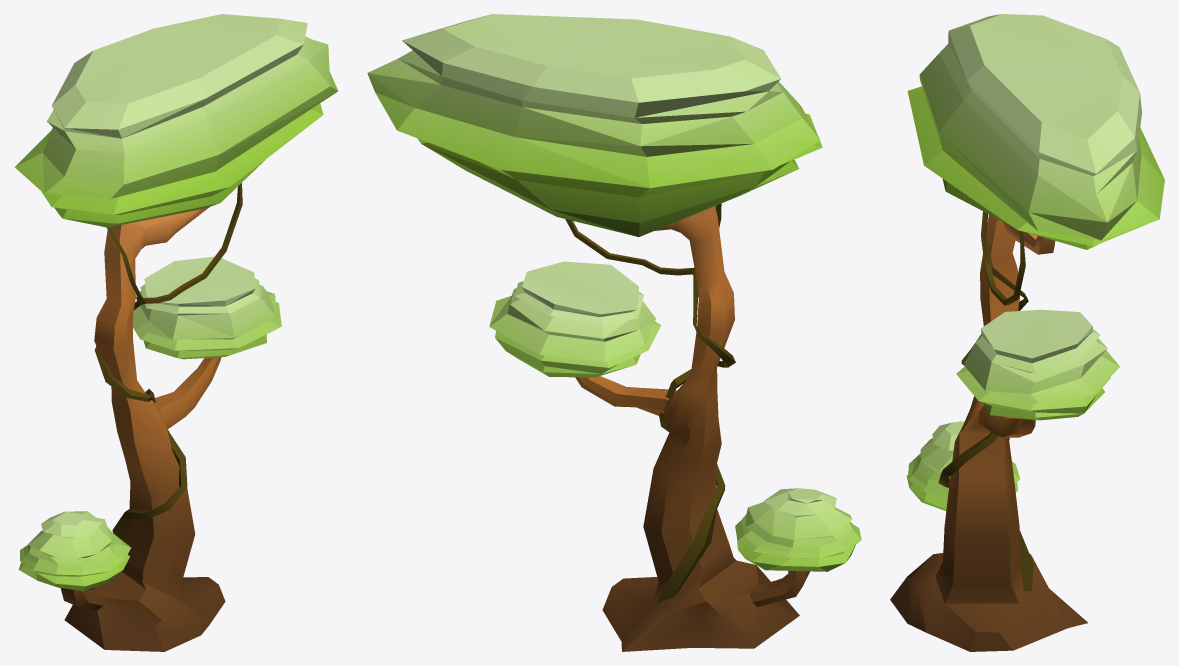
File: Tree_B_1.fbx
3 views of the same model, side by side, from view 1: azimuth 30°, elevation 25°; view 2: azimuth 150°, elevation 25°; view 3: azimuth 270°, elevation 25° (orthographic). The views are drawn at different scales.
Visible parts, largest first — view 1: Tree_B_1; view 2: Tree_B_1; view 3: Tree_B_1.
Boxes of the visible parts, x1,y1,x2,y2 form: Tree_B_1: (14, 14, 337, 651); Tree_B_1: (367, 14, 861, 651); Tree_B_1: (890, 14, 1164, 651).
Bounding box in the file's own units: 204 × 277 × 120.
